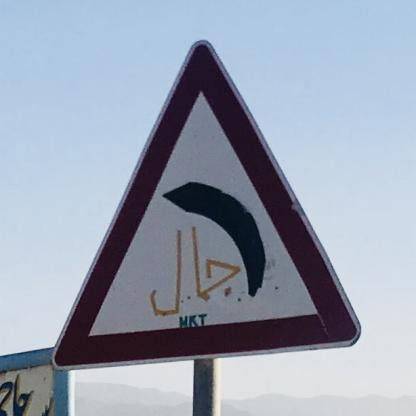Left bend: (48, 32, 363, 370)
